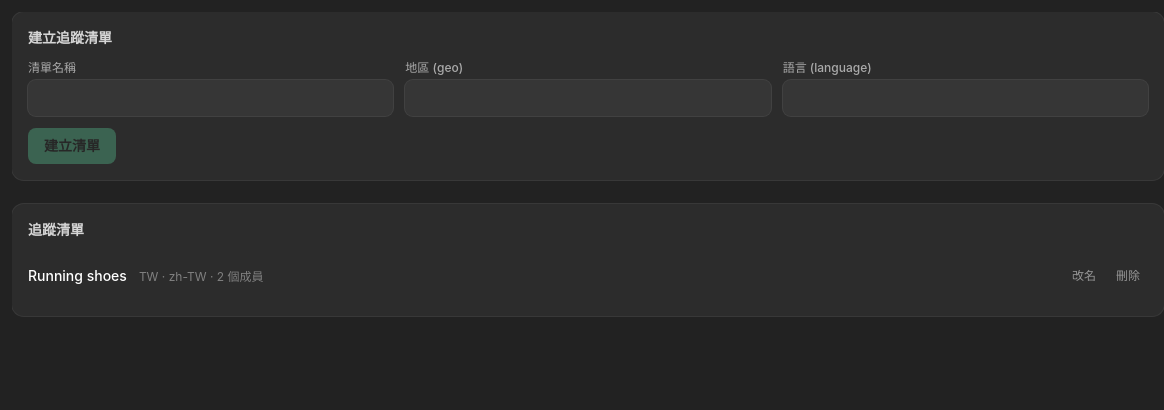
Scenario: TC-40 · TrackingListsView › maps a rename 404 to a not-found prompt
Click the button with aria-label "改名 Running shoes": (1084, 276) [1064,264,1104,288]
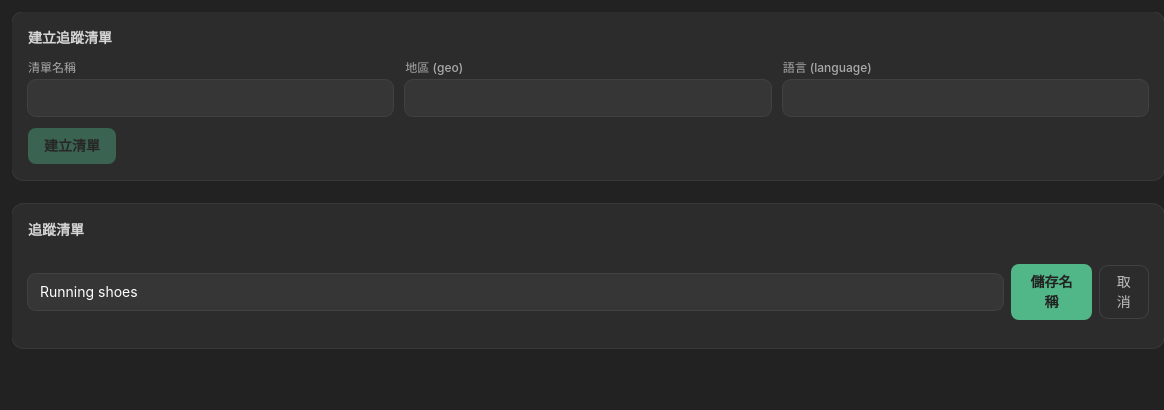
Replace the text in the field named "重新命名 Running shoes" with "x": (516, 292) [28,274,1003,310]
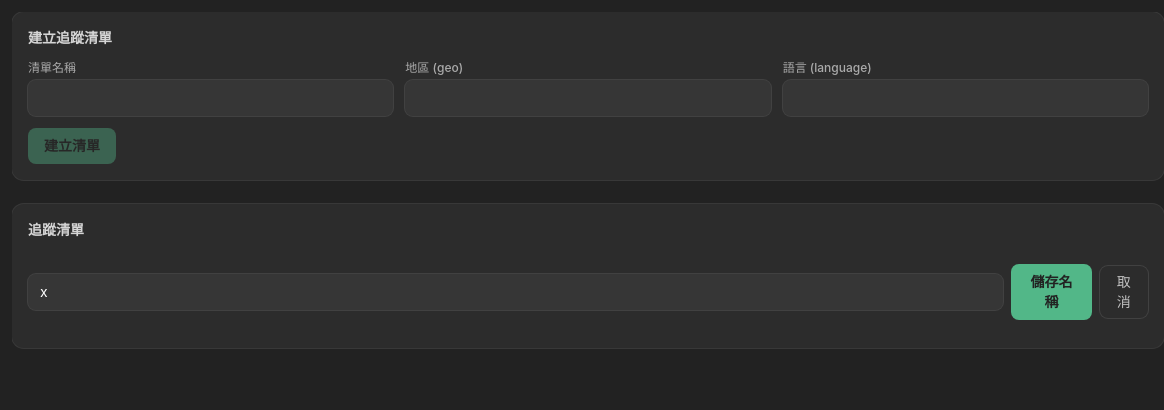
Click the button "儲存名稱": (1051, 292) [1011,264,1092,320]
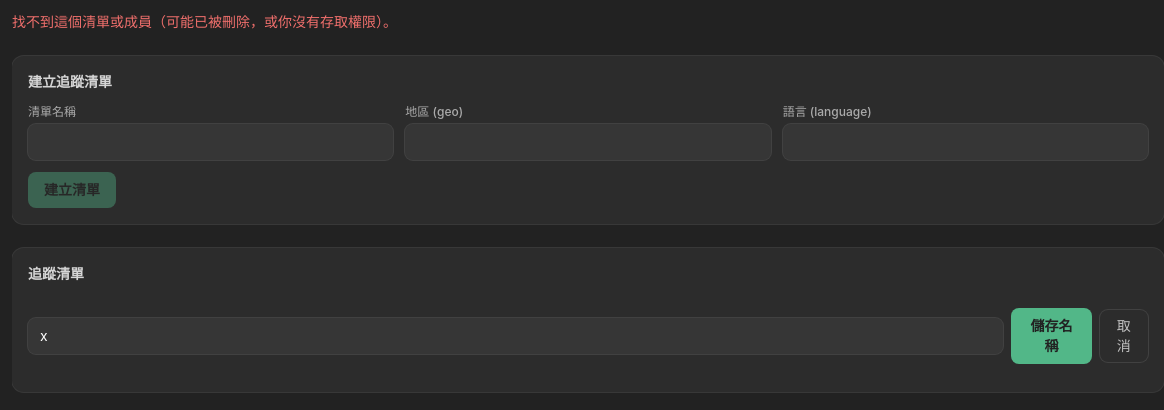
Expected: the message shows "找不到", [12,13,397,30]
